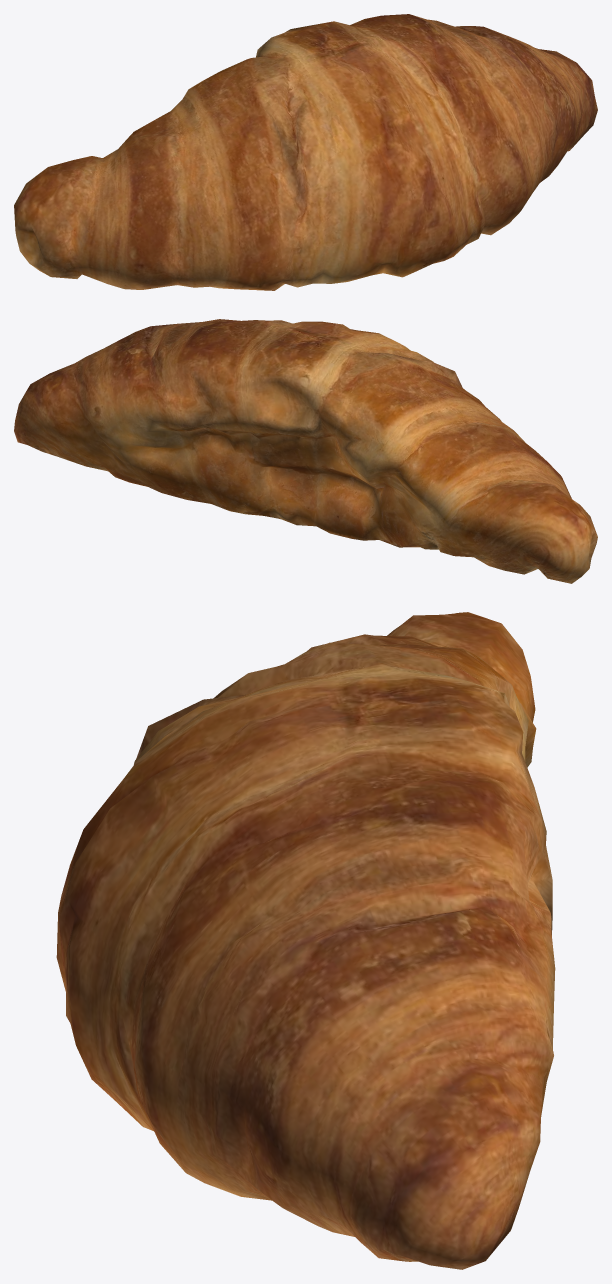
Rendered from prod_croissant.glb.
The picture shows the model from 3 angles, top to bottom: view 1: azimuth 30°, elevation 25°; view 2: azimuth 150°, elevation 25°; view 3: azimuth 270°, elevation 25°; orthographic projection. The views are drawn at different scales.
Parts seen in each view (by area): view 1: croissant; view 2: croissant; view 3: croissant.
Part boxes in pixels (x1,y1,x2,y2): croissant: (14,14,597,290); croissant: (14,319,597,583); croissant: (56,612,555,1269).
Size of the model in its own units: 0.2 by 0.062 by 0.0755.
Materials: 1 (1 with a texture image).
